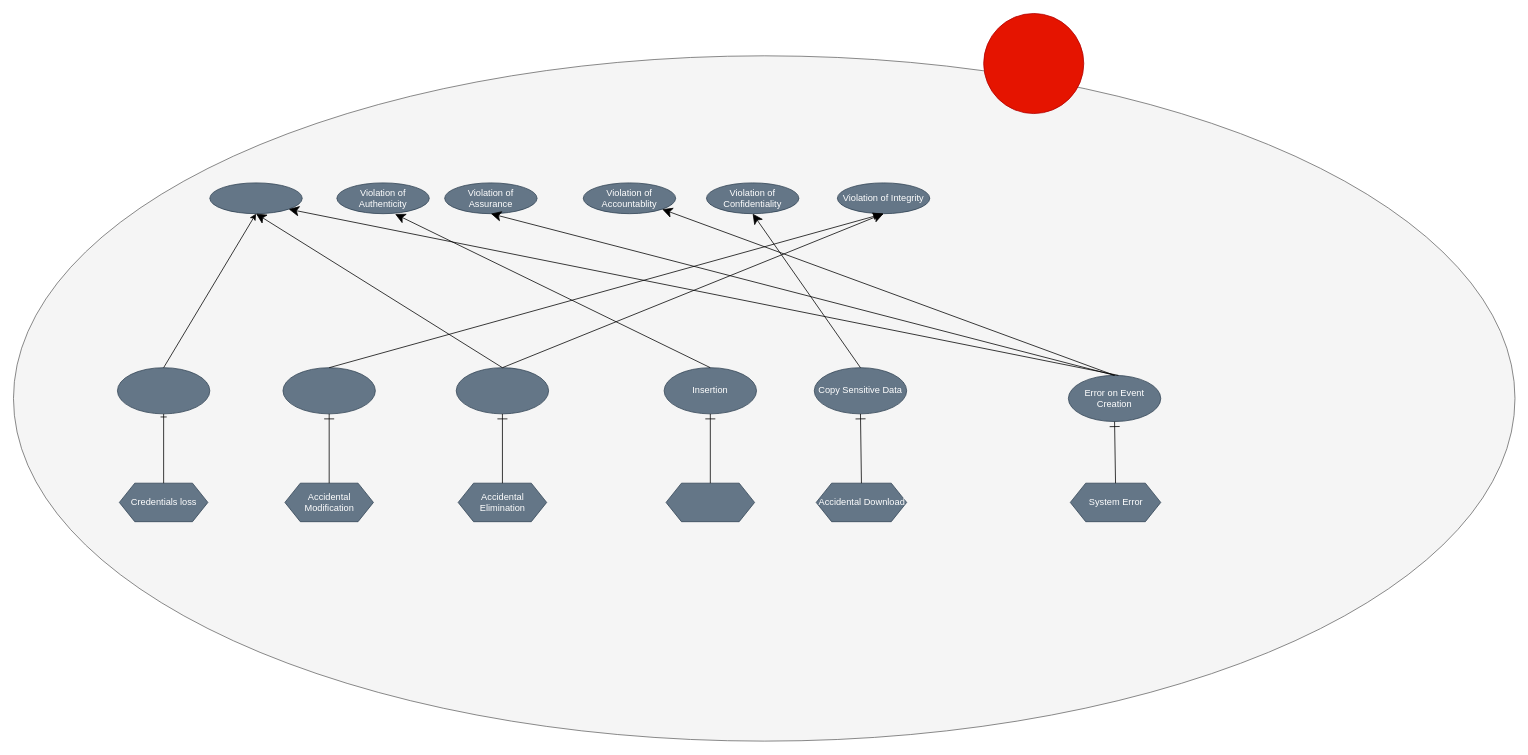
The diagram is 1528 pixels wide and 755 high, and some of its shapes have lost their labels. The shapes that lost their labels are listed below. From the top down, each one's centre as x and y in pixels, then its label:
At (1033,63): "Clumsy Event Manager".
At (255,198): "Violation of Avaiability".
At (163,390): "Lost Data".
At (328,390): "Modification".
At (502,390): "Elimination".
At (710,502): "Accidental Insertion".
